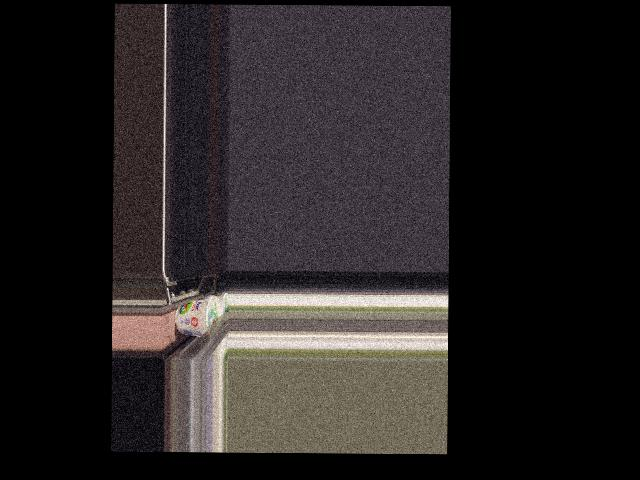cotage: (176, 297, 222, 338)
